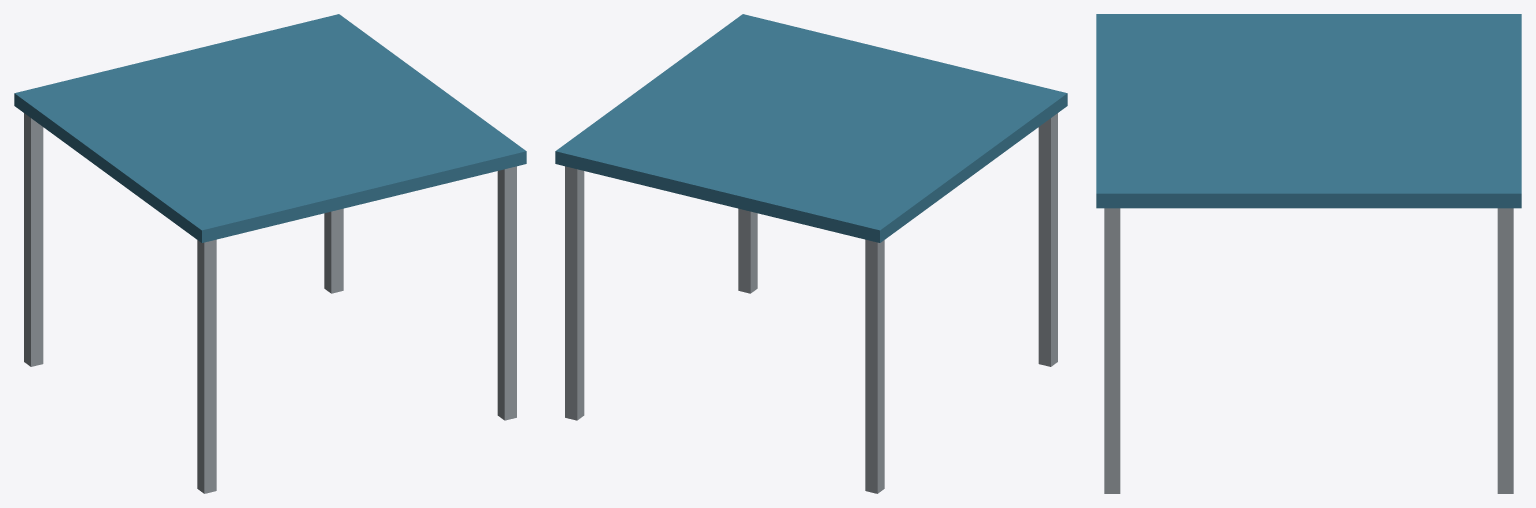
3 renders of one model, left to right at view 1: azimuth 30°, elevation 25°; view 2: azimuth 150°, elevation 25°; view 3: azimuth 270°, elevation 25°, orthographic. The views are drawn at different scales.
Parts seen in each view (by area): view 1: deck, support1, support3, support0, support2; view 2: deck, support0, support2, support1, support3; view 3: deck, support2, support3.
Part boxes in pixels (x1,y1,x2,y2): deck: [14, 14, 526, 242]; support1: [197, 239, 216, 493]; support3: [497, 166, 516, 420]; support0: [24, 113, 43, 366]; support2: [324, 208, 343, 293]; deck: [555, 14, 1067, 242]; support0: [865, 239, 884, 493]; support2: [565, 166, 584, 420]; support1: [1038, 113, 1057, 366]; support3: [738, 208, 757, 293]; deck: [1096, 14, 1521, 208]; support2: [1497, 208, 1513, 493]; support3: [1104, 208, 1120, 493].
Size of the model in its own units: 4 by 3.15 by 4.
